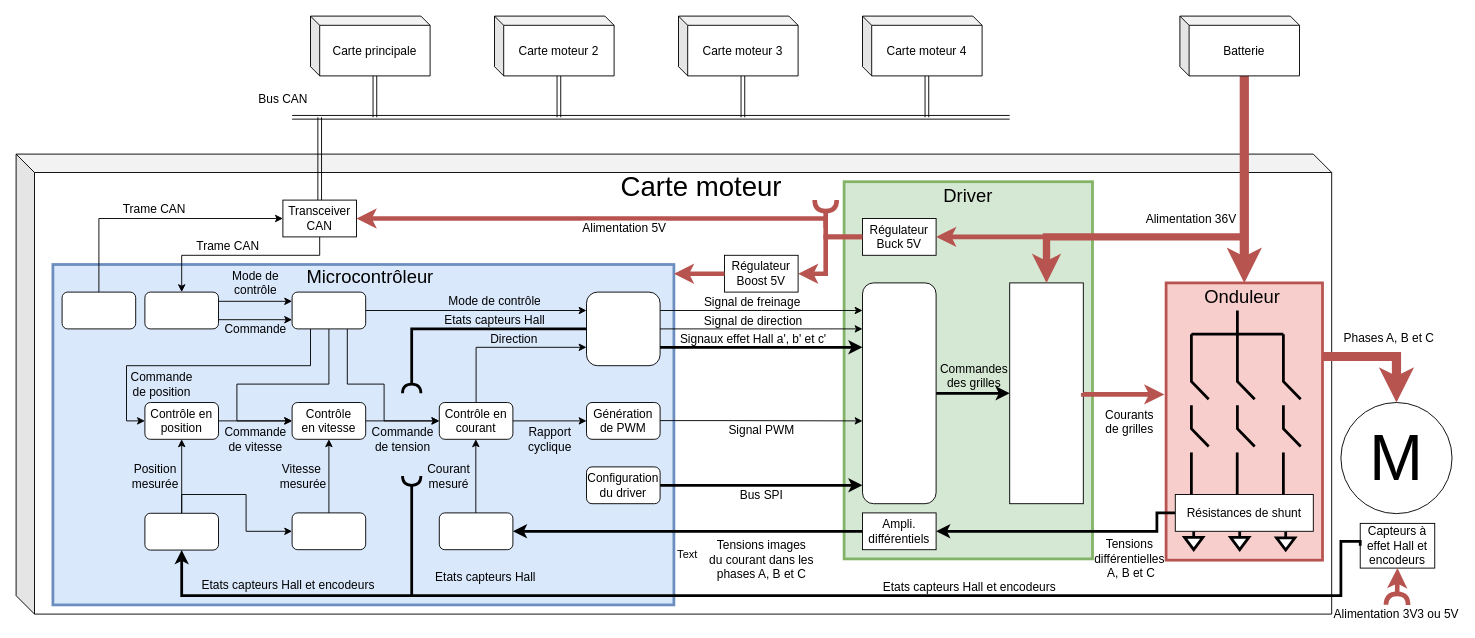
This 1475x638 diagram has some shape labels left out. Each missing label, with the box of its shape:
Décodage trame: (144, 291, 218, 329)
Gestion des signaux du driver: (586, 291, 660, 366)
Gestion du contrôle: (291, 291, 366, 329)
Génération trames CAN: (61, 291, 136, 329)
Mesure de courant: (438, 512, 513, 550)
Mesure de position: (144, 512, 218, 550)
Mesure de vitesse: (291, 512, 366, 550)
Pilotage intelligent des grilles: (862, 282, 936, 504)
Pilotes de grilles: (1009, 282, 1083, 504)
